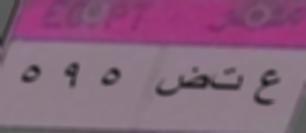5: (97, 57, 126, 98), (18, 57, 45, 92)
9: (60, 59, 82, 98)
ain: (250, 64, 283, 116)
daad: (152, 62, 210, 112)
taa: (211, 63, 245, 104)
